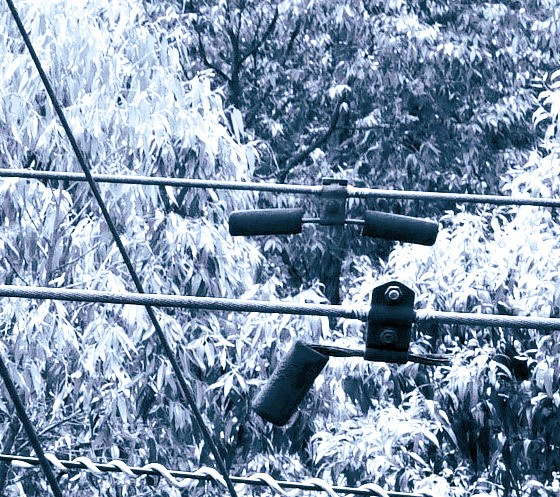Damage of shockproof hammer: (249, 275, 458, 430)
